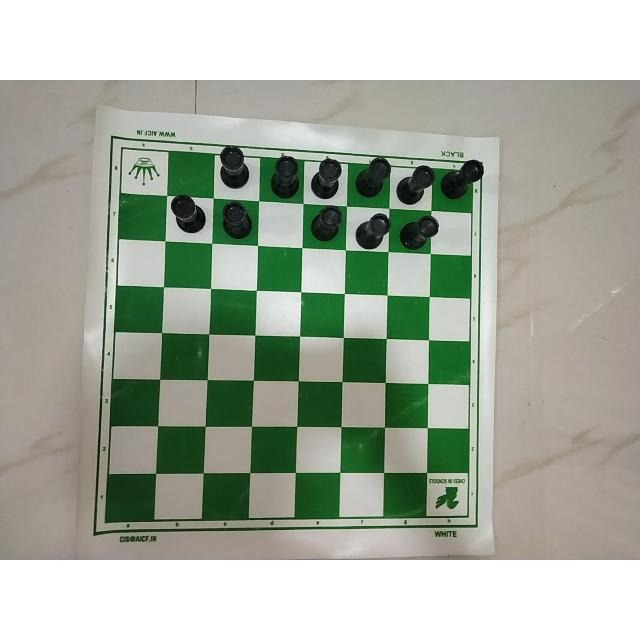black-rook: (441, 158, 485, 201), (214, 144, 253, 192), (169, 194, 209, 235), (395, 163, 434, 204), (353, 209, 392, 250), (307, 203, 345, 244), (354, 154, 390, 197), (218, 199, 254, 241), (270, 153, 302, 200), (309, 156, 343, 200), (399, 213, 439, 249)
